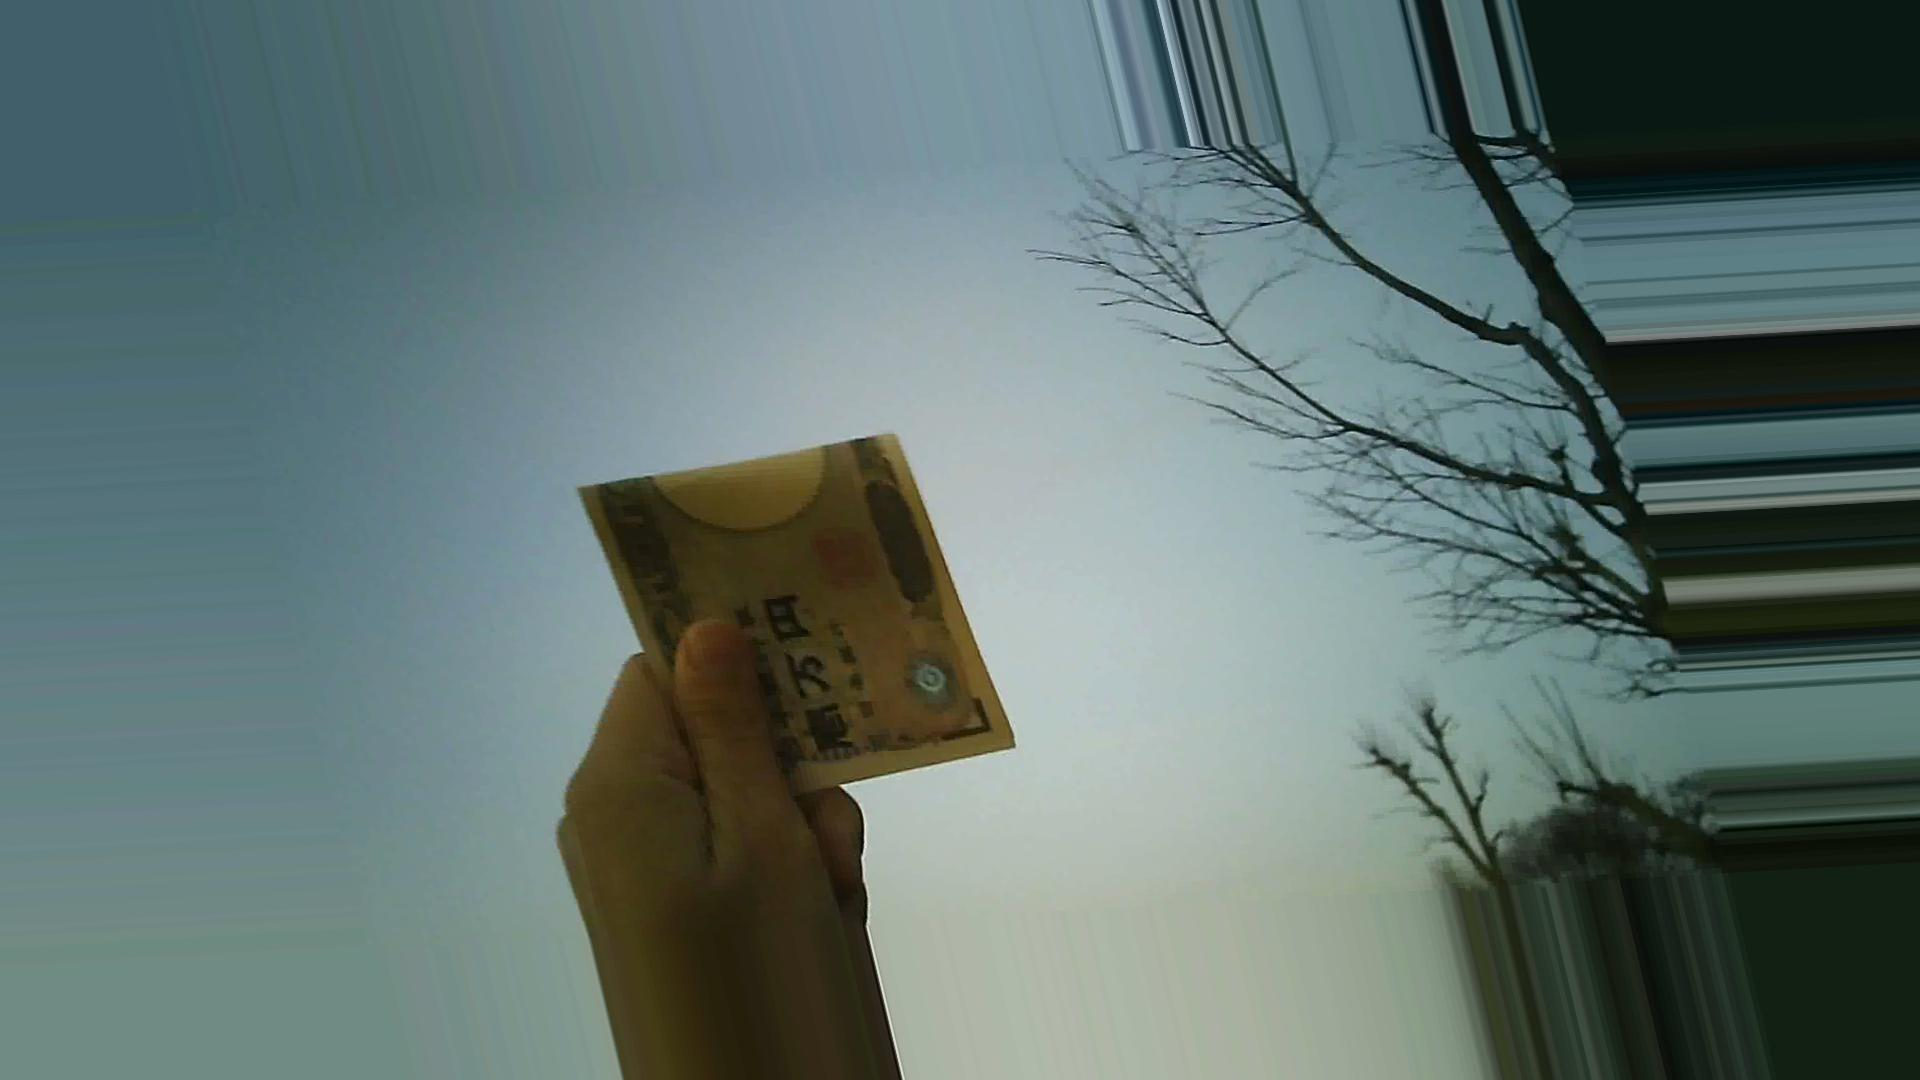10,000 Yen: (563, 422, 1036, 799)
